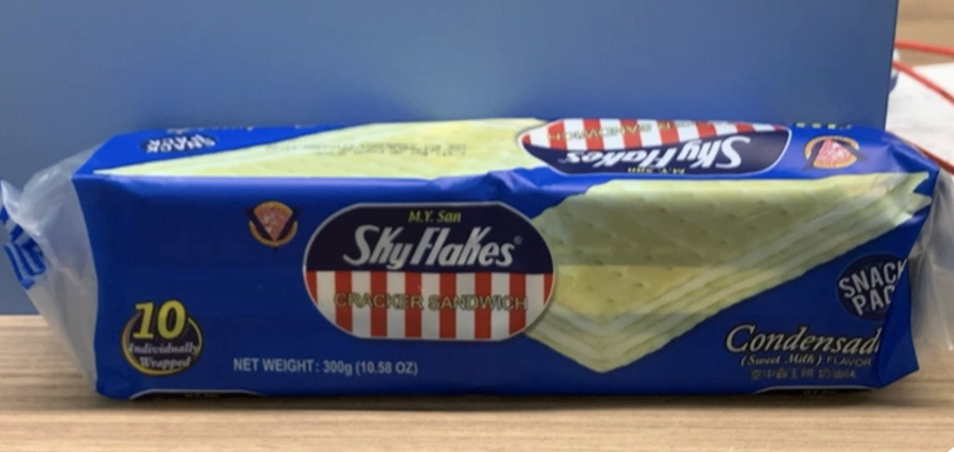crackers_300g-399g: (109, 134, 911, 387)
